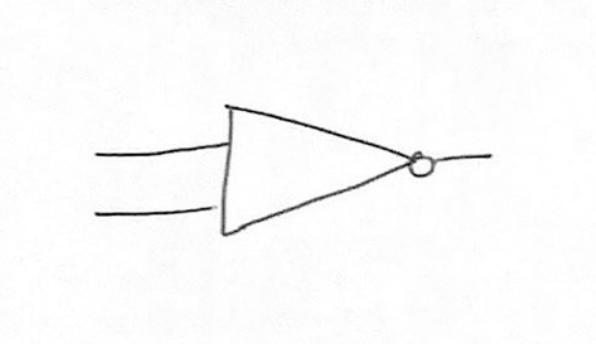NOT: (204, 85, 445, 260)
